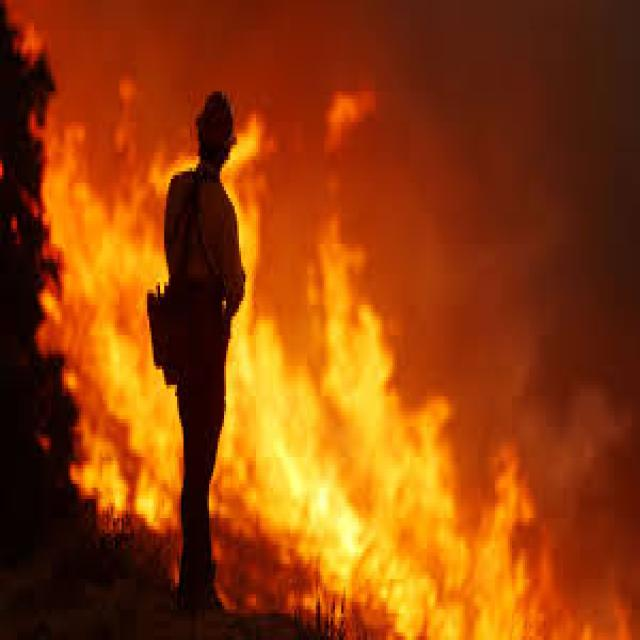Fire: (247, 133, 527, 640), (31, 95, 163, 547)
